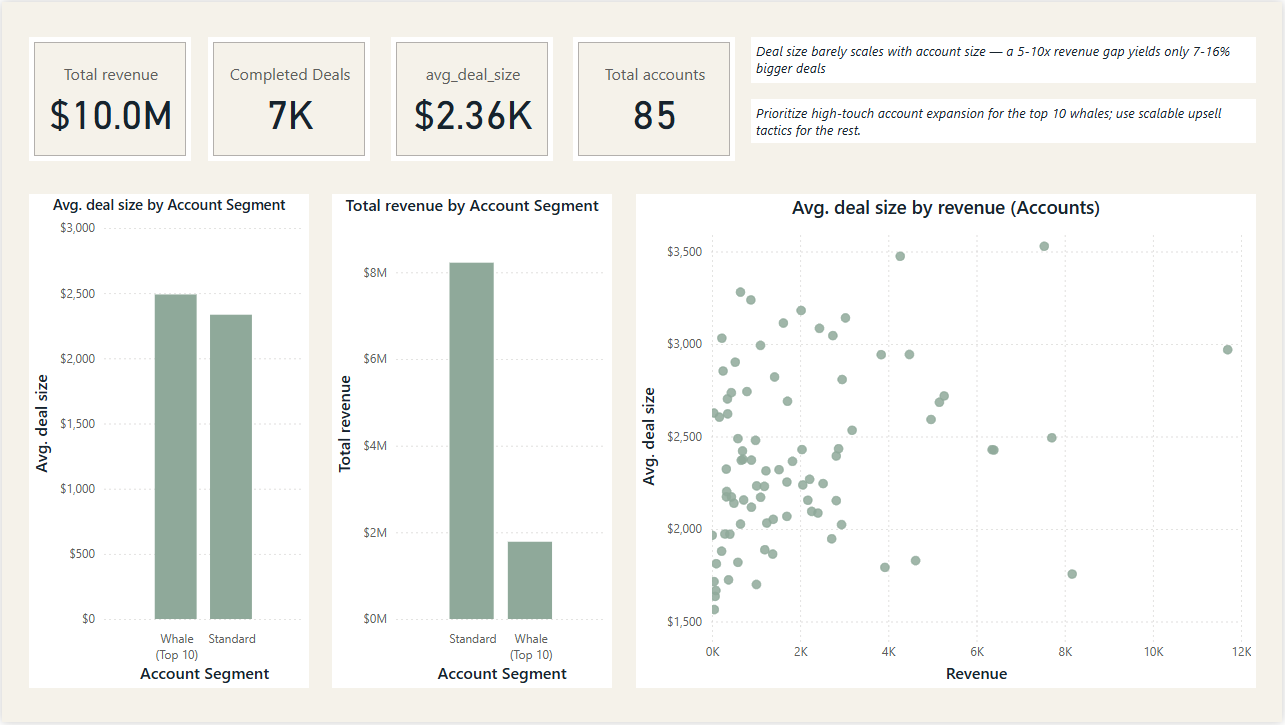

The page's visual inventory and layout, read from the dashboard file:
{"tool":"powerbi","page":{"name":"Accounts performance","canvas":[1280,720],"ordinal":4},"visuals":[{"type":"clusteredColumnChart","title":"Avg. deal size by Account Segment","fields":{"Category":["accounts.Account Segment"],"Y":["sales_pipeline.avg_deal_size"]},"box":[27,192,280,494],"z":0},{"type":"clusteredColumnChart","fields":{"Category":["accounts.Account Segment"],"Y":["sales_pipeline.Total revenue"]},"box":[330,192,280,494],"z":1000},{"type":"scatterChart","title":"Avg. deal size  by revenue (Accounts)","fields":{"Y":["sales_pipeline.avg_deal_size"],"X":["accounts.revenue"]},"box":[634,192,620,494],"z":2000},{"type":"cardVisual","fields":{"Data":["sales_pipeline.Total revenue"]},"box":[27,35,162,124],"z":3000},{"type":"cardVisual","fields":{"Data":["sales_pipeline.Completed Deals"]},"box":[206,35,162,124],"z":4000},{"type":"cardVisual","fields":{"Data":["sales_pipeline.avg_deal_size"]},"box":[389,35,162,124],"z":5000},{"type":"cardVisual","fields":{"Data":["accounts.Total accounts"]},"box":[571,35,162,124],"z":6000},{"type":"textbox","box":[749,35,505,46],"z":8000},{"type":"textbox","box":[749,97,505,44],"z":9000}]}

Visuals, with their boxes in screenshot pixels (x1, y1, x2, y2), scaled from the page's 1280x720 canvas onto the 1285x725 screenshot:
"Avg. deal size by Account Segment" clusteredColumnChart: 27, 193, 308, 691
clusteredColumnChart - accounts.Account Segment x sales_pipeline.Total revenue: 331, 193, 612, 691
"Avg. deal size  by revenue (Accounts)" scatterChart: 636, 193, 1259, 691
cardVisual - sales_pipeline.Total revenue: 27, 35, 190, 160
cardVisual - sales_pipeline.Completed Deals: 207, 35, 369, 160
cardVisual - sales_pipeline.avg_deal_size: 391, 35, 553, 160
cardVisual - accounts.Total accounts: 573, 35, 736, 160
textbox: 752, 35, 1259, 82
textbox: 752, 98, 1259, 142
